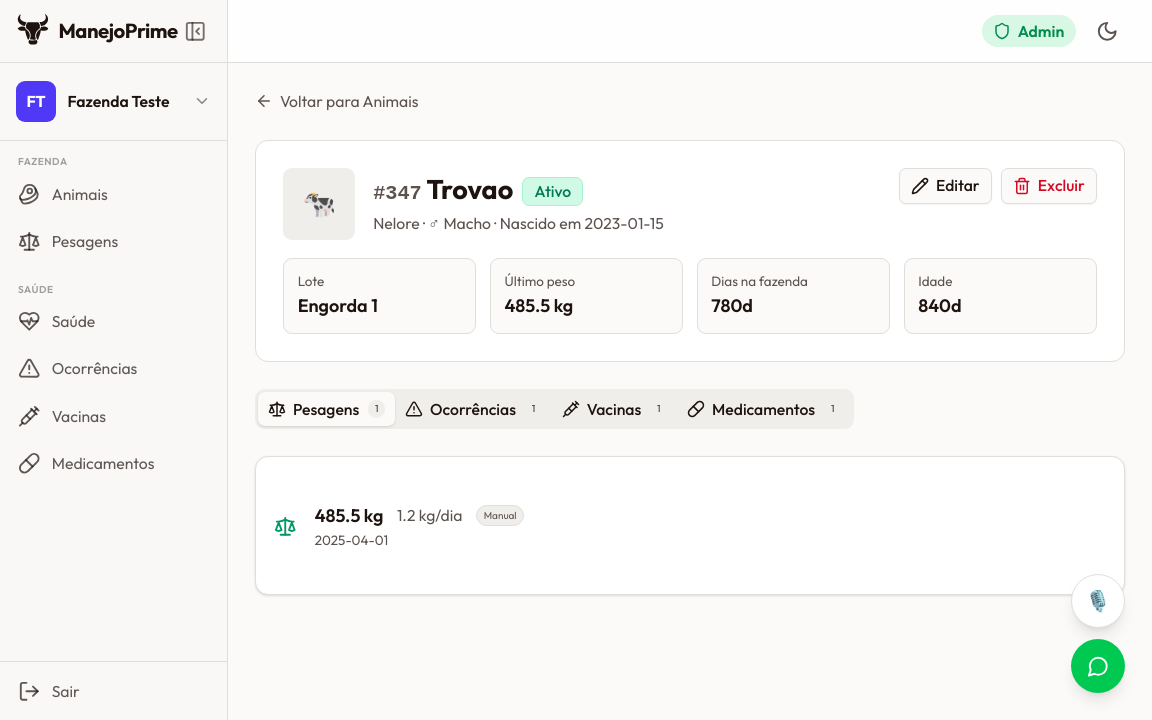
animal detail page — edit › shows error when edit API returns 422
The width and height of the screenshot is (1152, 720).
Expected: the heading "#347 Trovao" is shown, x1=373 y1=172 x2=513 y2=210
Click the button "Editar" at point(945, 186), box x1=899 y1=168 x2=992 y2=204
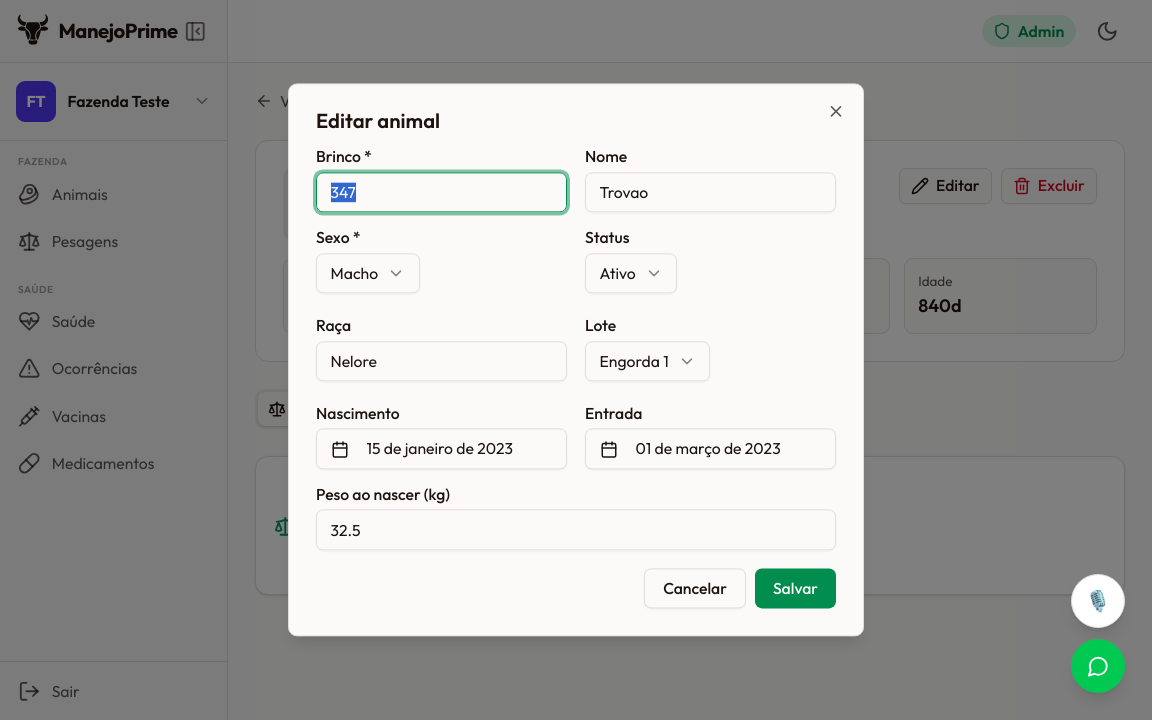
Expected: the dialog is shown, x1=288 y1=83 x2=864 y2=637
Click the button "Salvar" at point(795, 588), box x1=755 y1=568 x2=836 y2=609
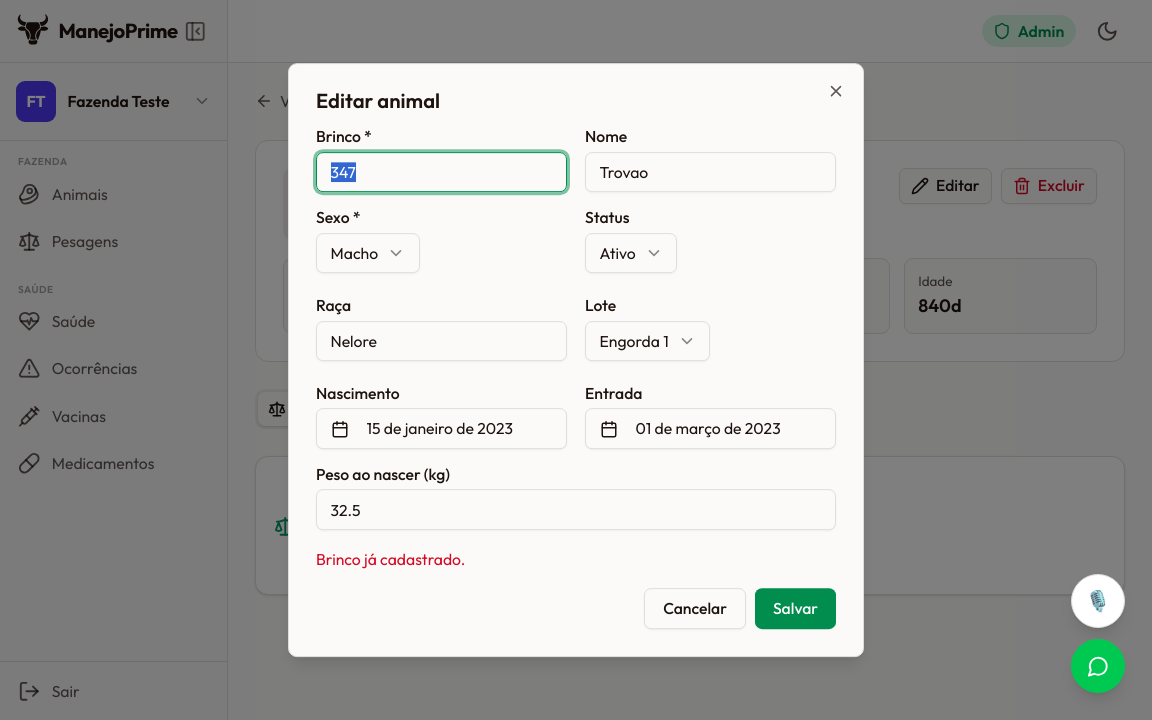
Expected: the text "Brinco já cadastrado." is shown, x1=316 y1=549 x2=465 y2=569
